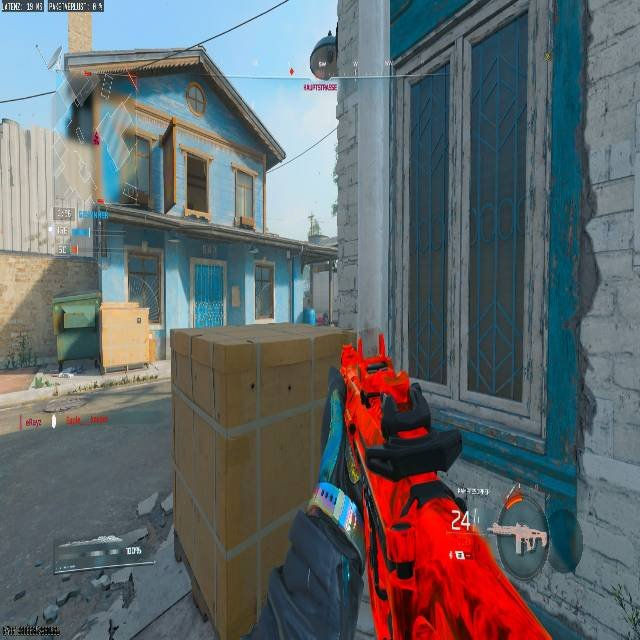player: (315, 311, 328, 326)
